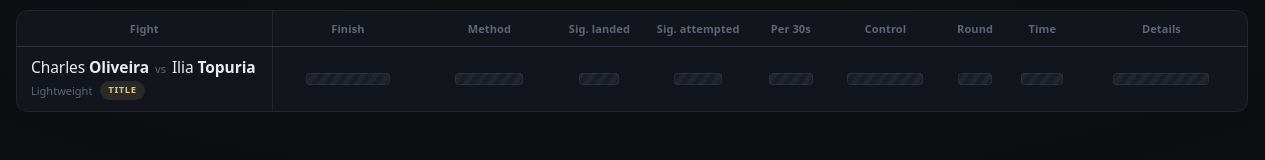
Test case: single-cell isolation — one variable per reveal › revealing method shows the method only, no detail or bonus
The width and height of the screenshot is (1265, 160).
Click the button named "reveal method —" at [489, 79], box [424,56,555,102]
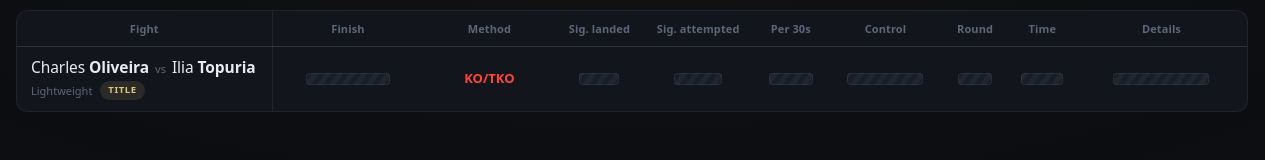
expect the text "KO/TKO" is shown: met, box [464,69,515,87]
